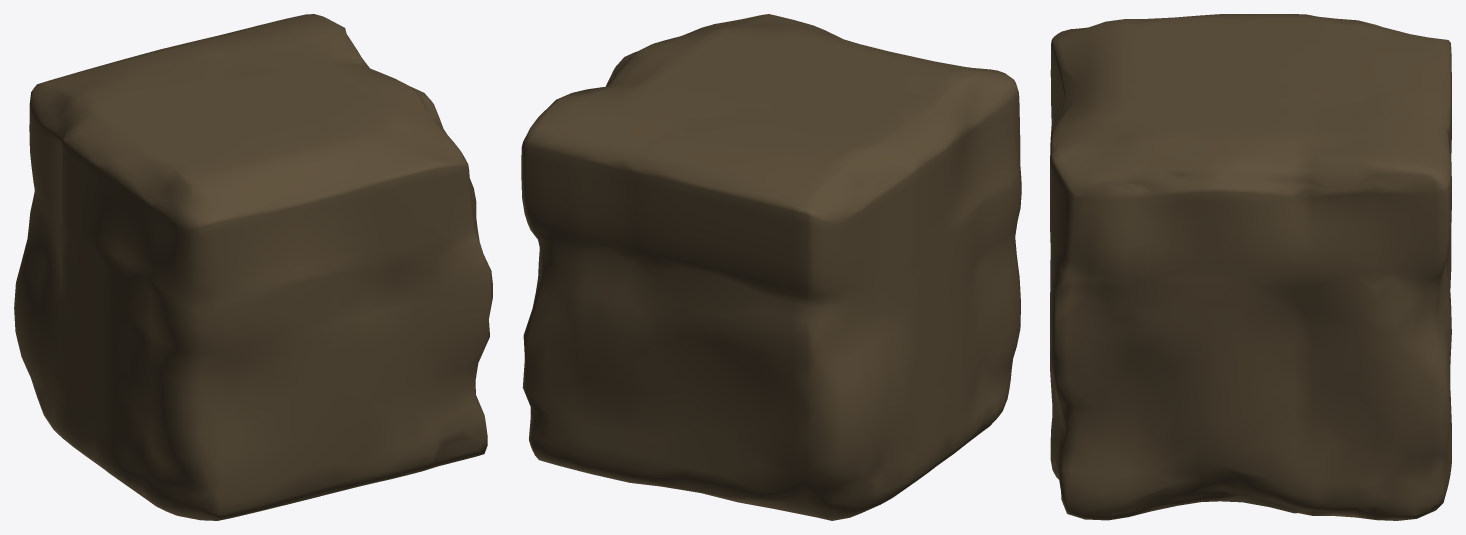
Rendered from ERDBLOCK.fbx.
3 views of the same model, side by side, from view 1: azimuth 30°, elevation 25°; view 2: azimuth 150°, elevation 25°; view 3: azimuth 270°, elevation 25° (orthographic). The views are drawn at different scales.
Parts seen in each view (by area): view 1: pCube18; view 2: pCube18; view 3: pCube18.
Boxes of the visible parts, bbox=[...] form: pCube18: bbox=[14, 14, 492, 520]; pCube18: bbox=[521, 14, 1021, 520]; pCube18: bbox=[1050, 14, 1451, 520].
Size of the model in its own units: 157 by 157 by 157.
